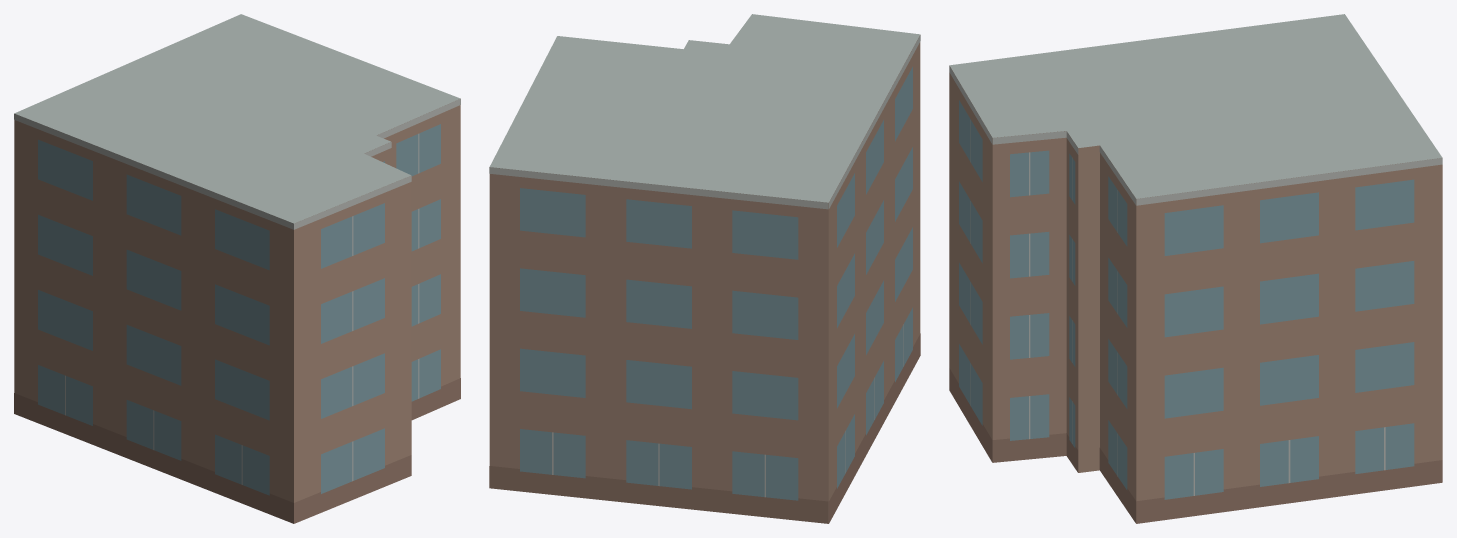
Rendered from survey-upis-32979022.glb.
3 views of the same model, side by side, from view 1: azimuth 30°, elevation 25°; view 2: azimuth 150°, elevation 25°; view 3: azimuth 270°, elevation 25° (orthographic). The views are drawn at different scales.
Parts seen in each view (by area): view 1: survey-upis-32979022.tmp; view 2: survey-upis-32979022.tmp; view 3: survey-upis-32979022.tmp.
Part boxes in pixels (left/top/right/bottom): survey-upis-32979022.tmp: left=14, top=14, right=460, bottom=523; survey-upis-32979022.tmp: left=489, top=14, right=920, bottom=523; survey-upis-32979022.tmp: left=949, top=14, right=1442, bottom=523.
Bounding box in the file's own units: 14.23 × 11.65 × 16.04.
